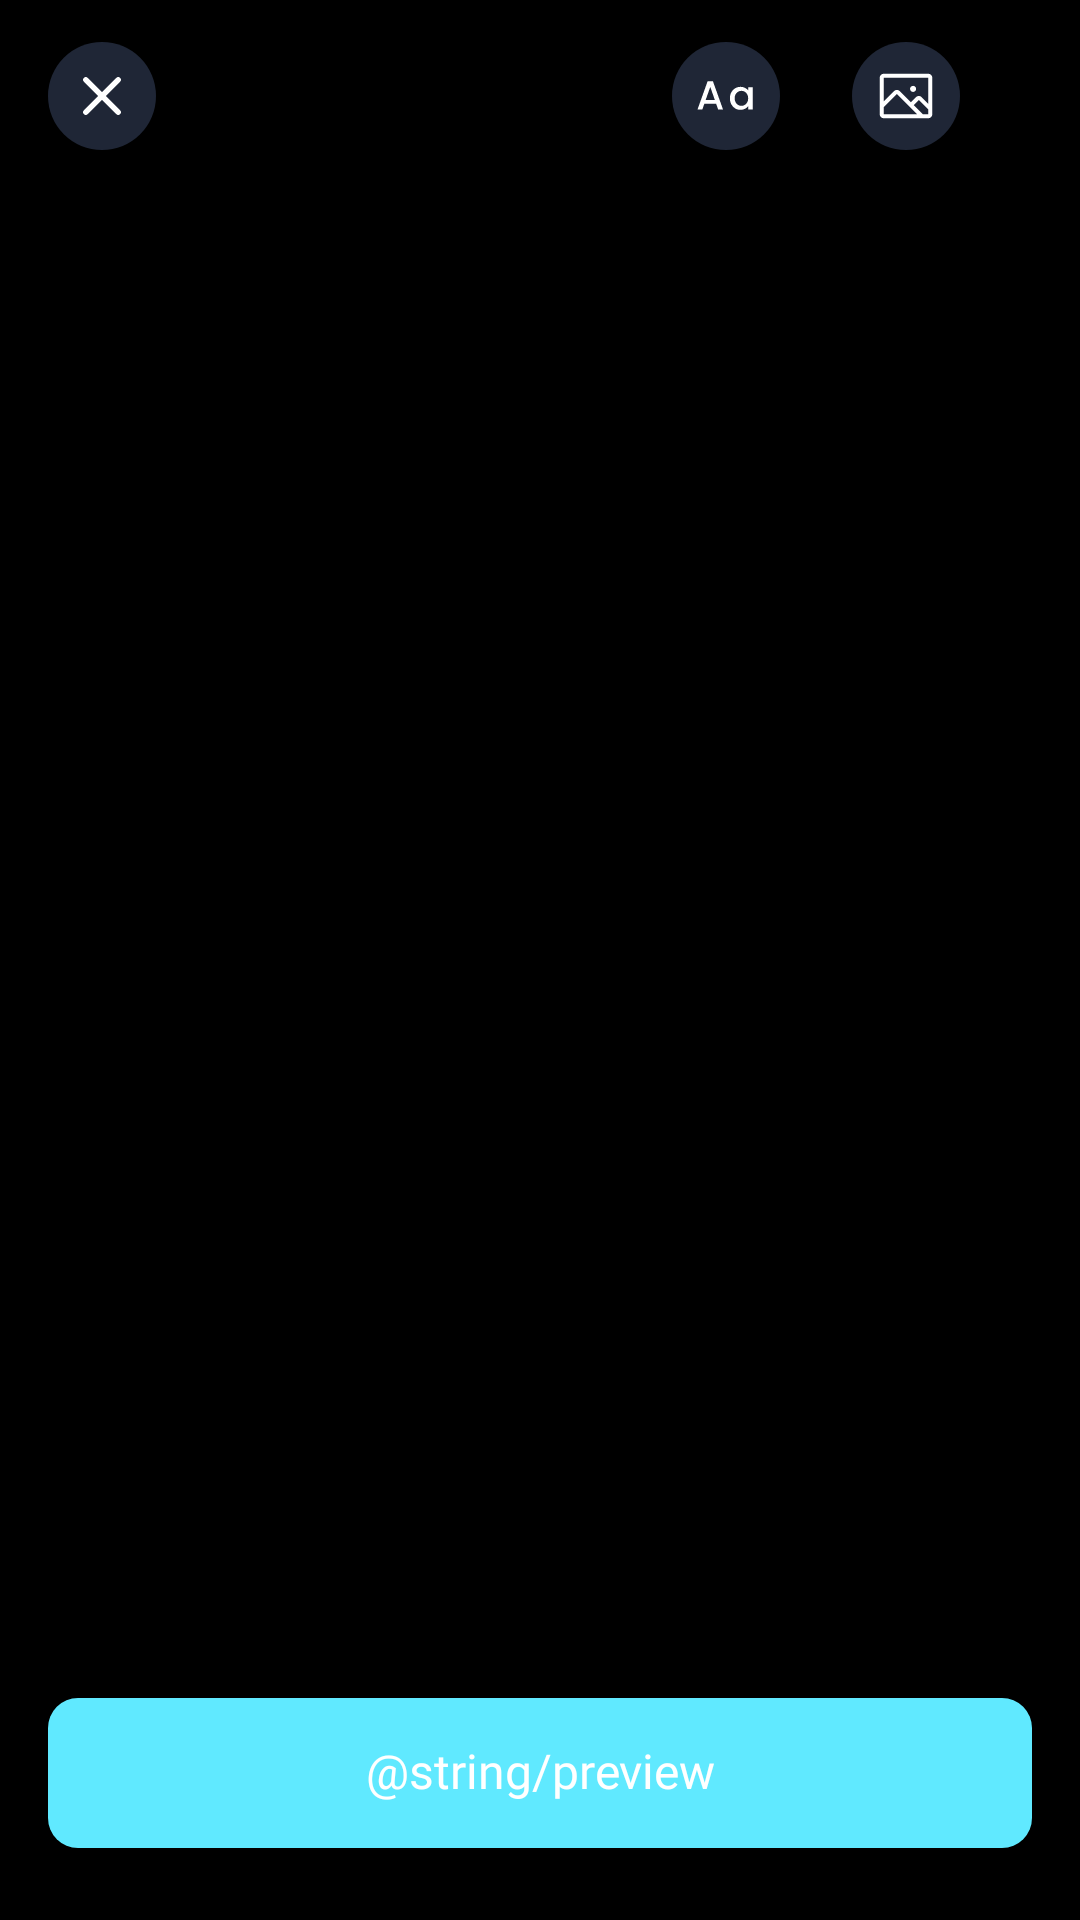

Icons on this 1080 x 1920 Android screen, each with the point to tap as [x,y]:
close circle: [102,96]
text: [726,96]
